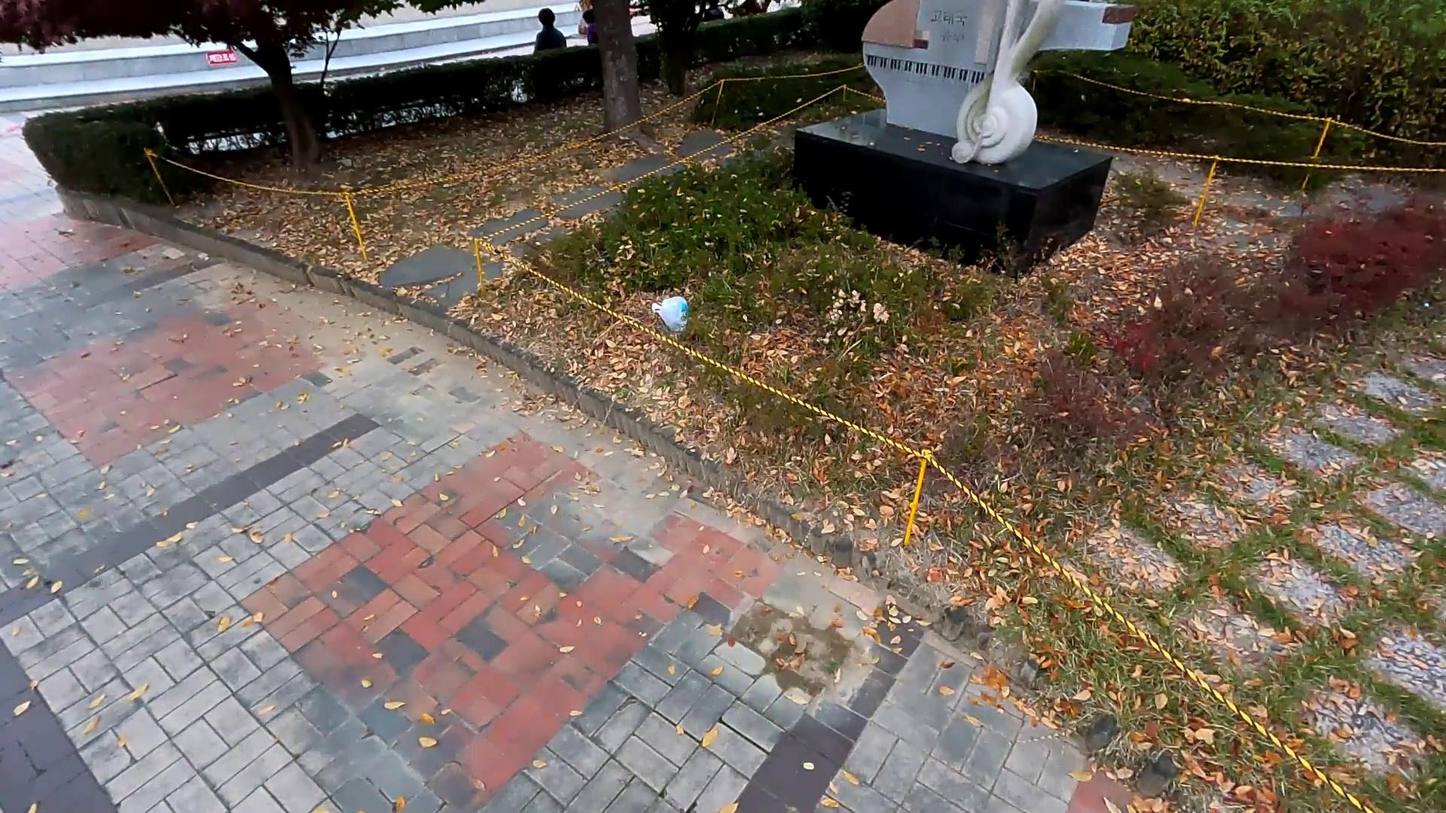trash: (642, 288, 695, 336)
